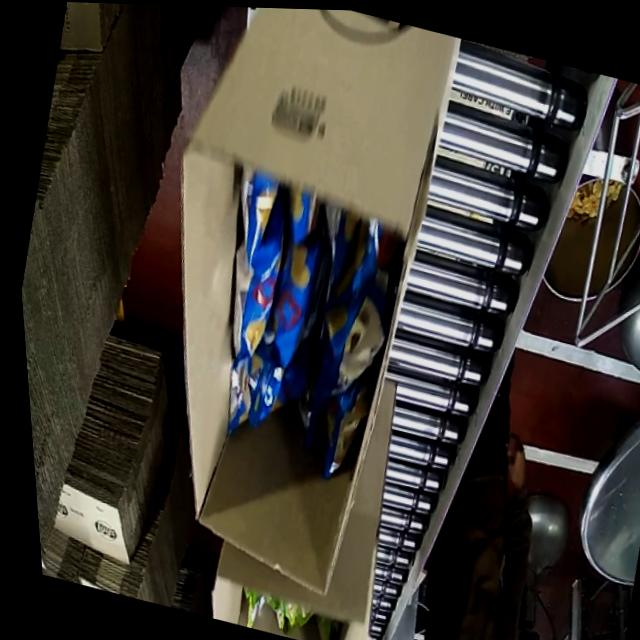PAPRIKA: (162, 156, 434, 512)
